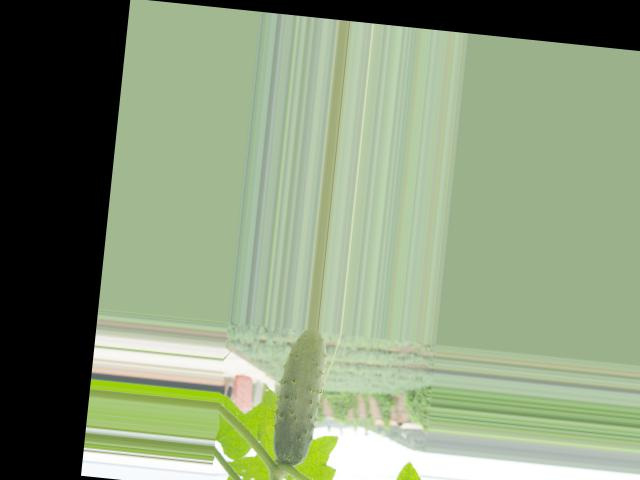cucumber: (271, 326, 328, 467)
